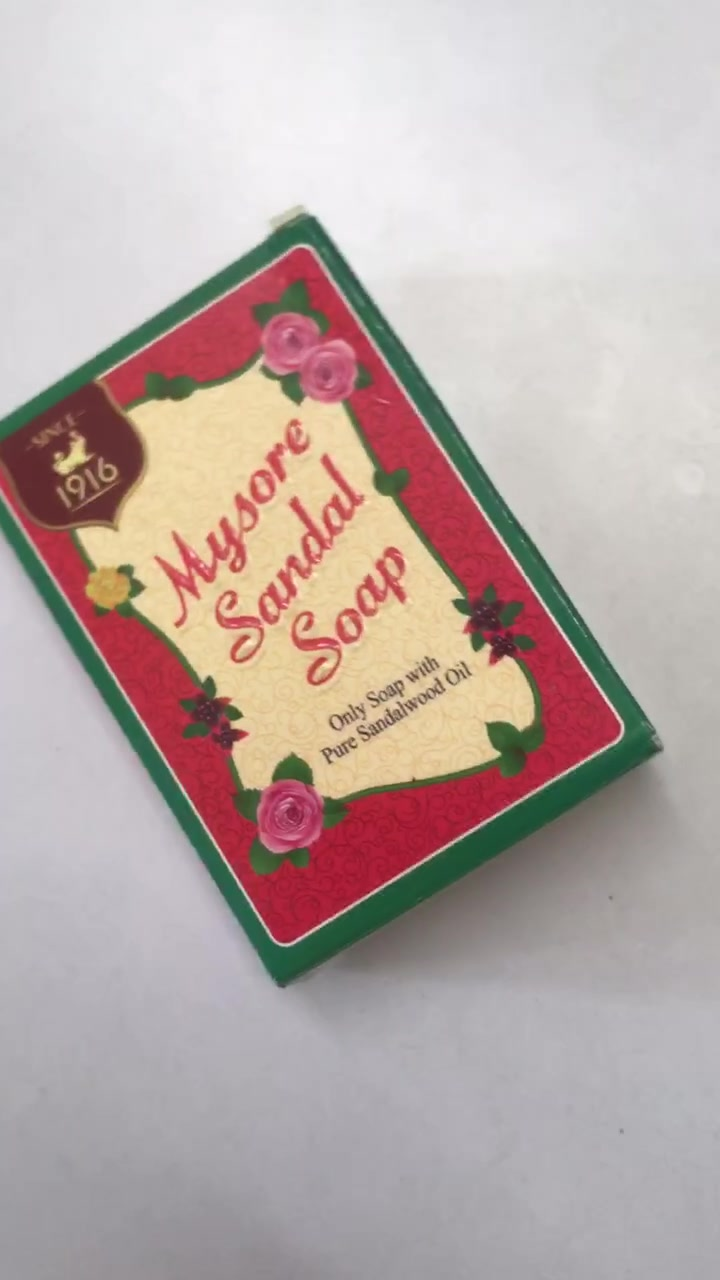mysore sandal soap: (5, 230, 652, 991)
